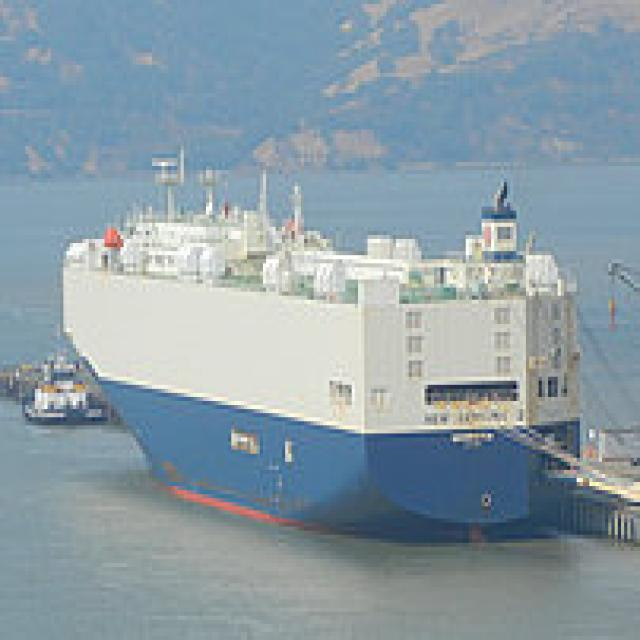Carrier: (54, 170, 583, 543)
